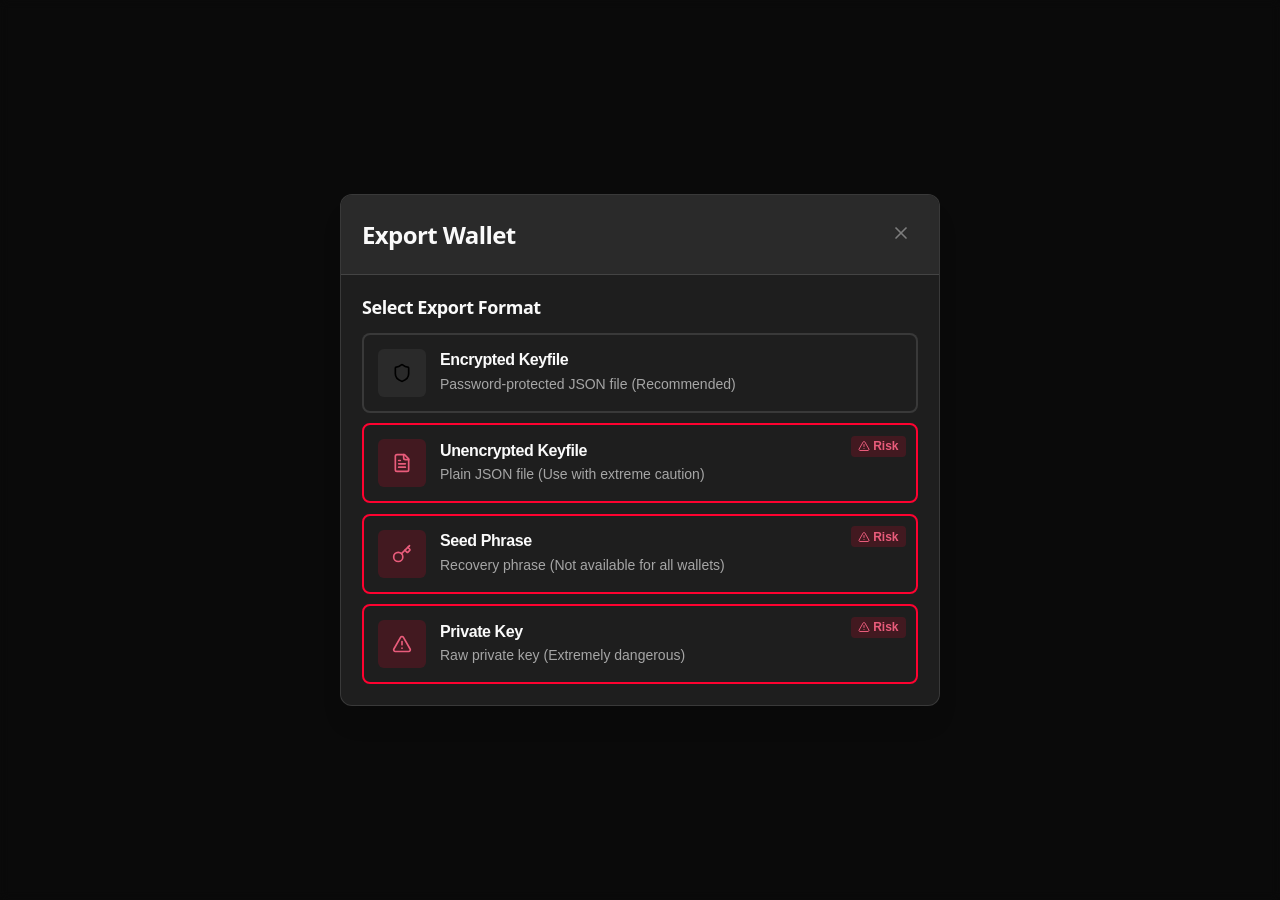
Test: WalletExport reveal-mask (SEC-12) › encrypted keyfile export (deliberately unmasked) › renders the password-protected keyfile directly — no reveal gate
Click the button "Encrypted Keyfile". click: (402, 372)
box: [362,332,918,412]
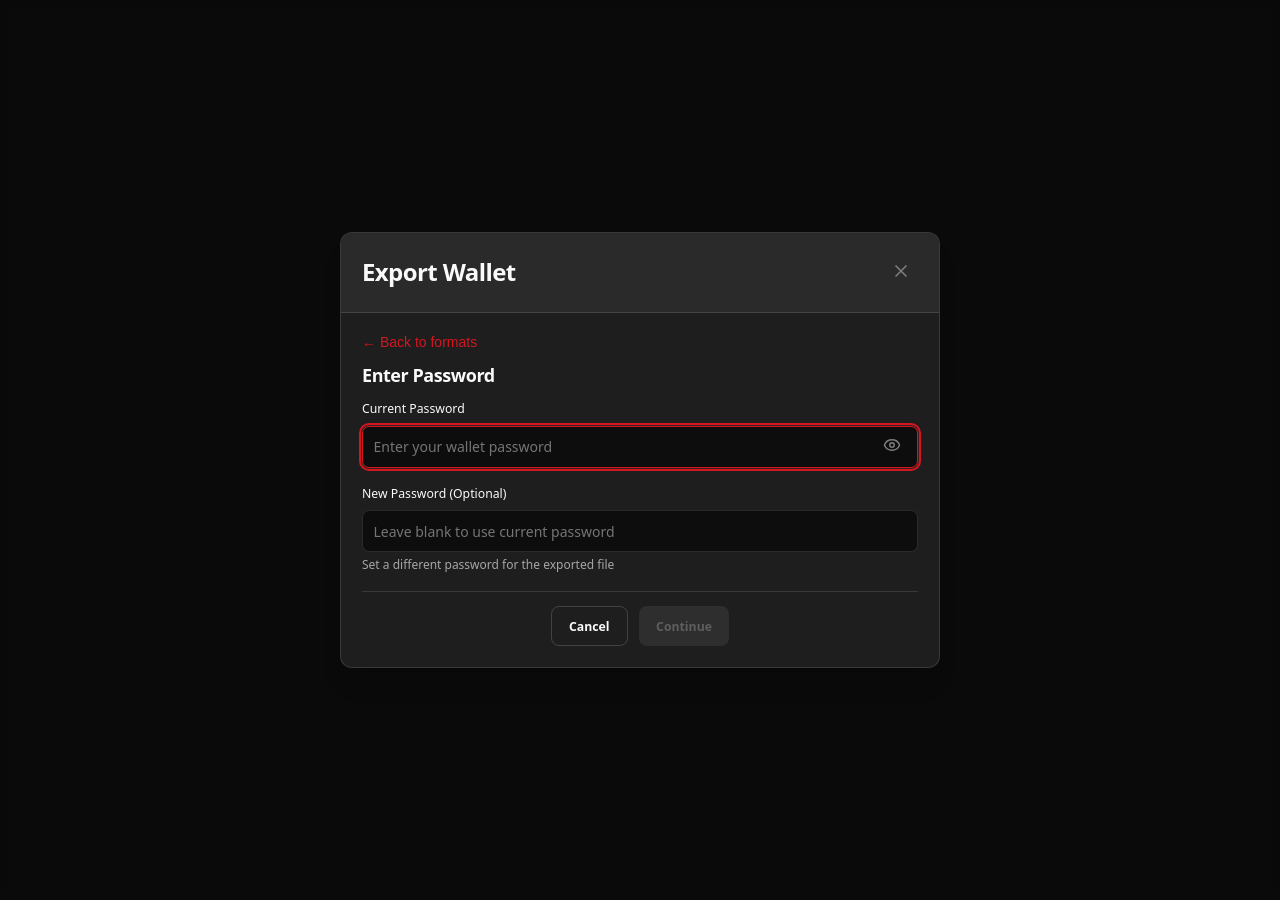
Type "correct-horse-battery" into the password field with placeholder "Enter your wallet password". click: (640, 446)
box: [362,426,918,468]
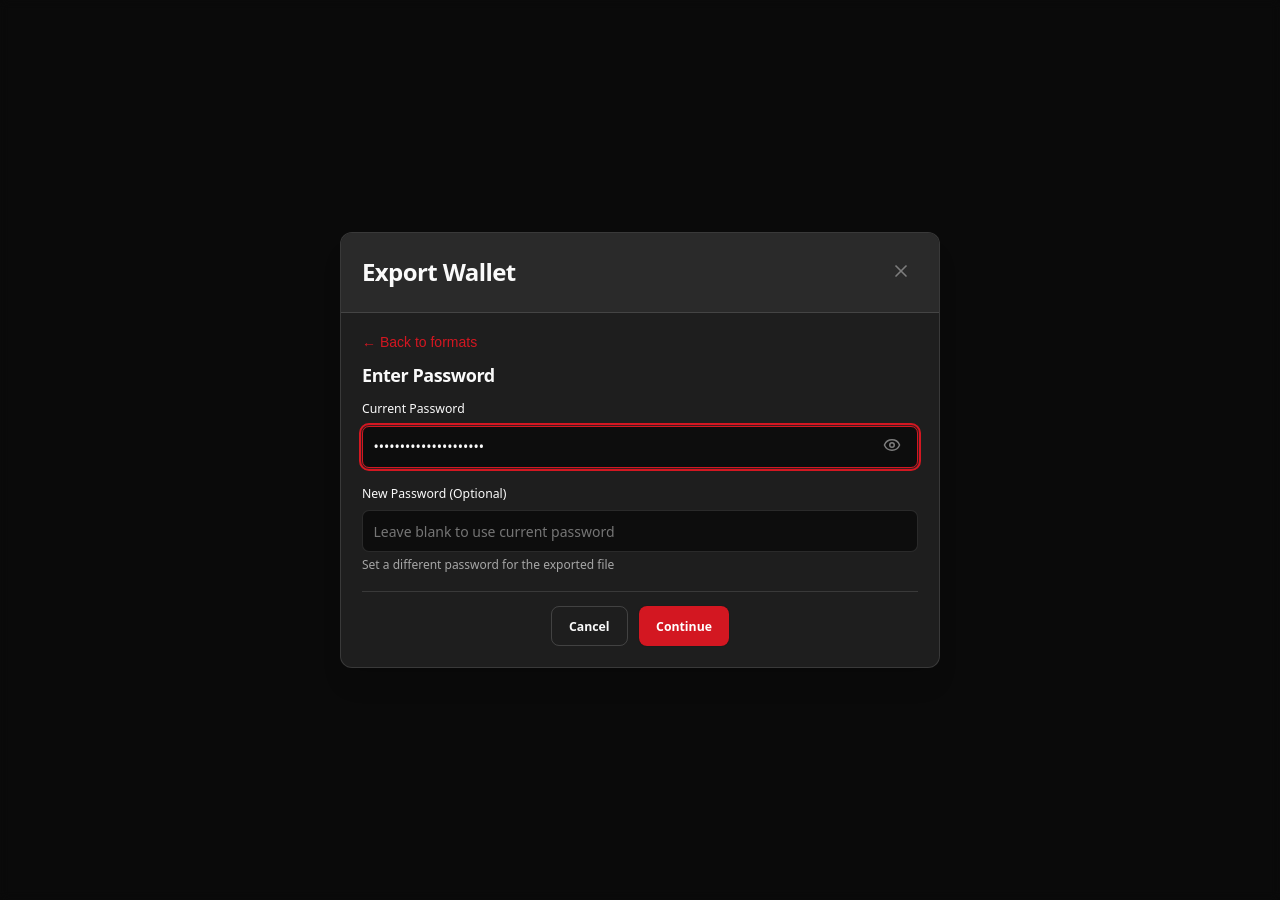
// Encrypted export has no final-warning interstitial
Click the button "Continue". click: (684, 626)
box: [639,606,729,646]
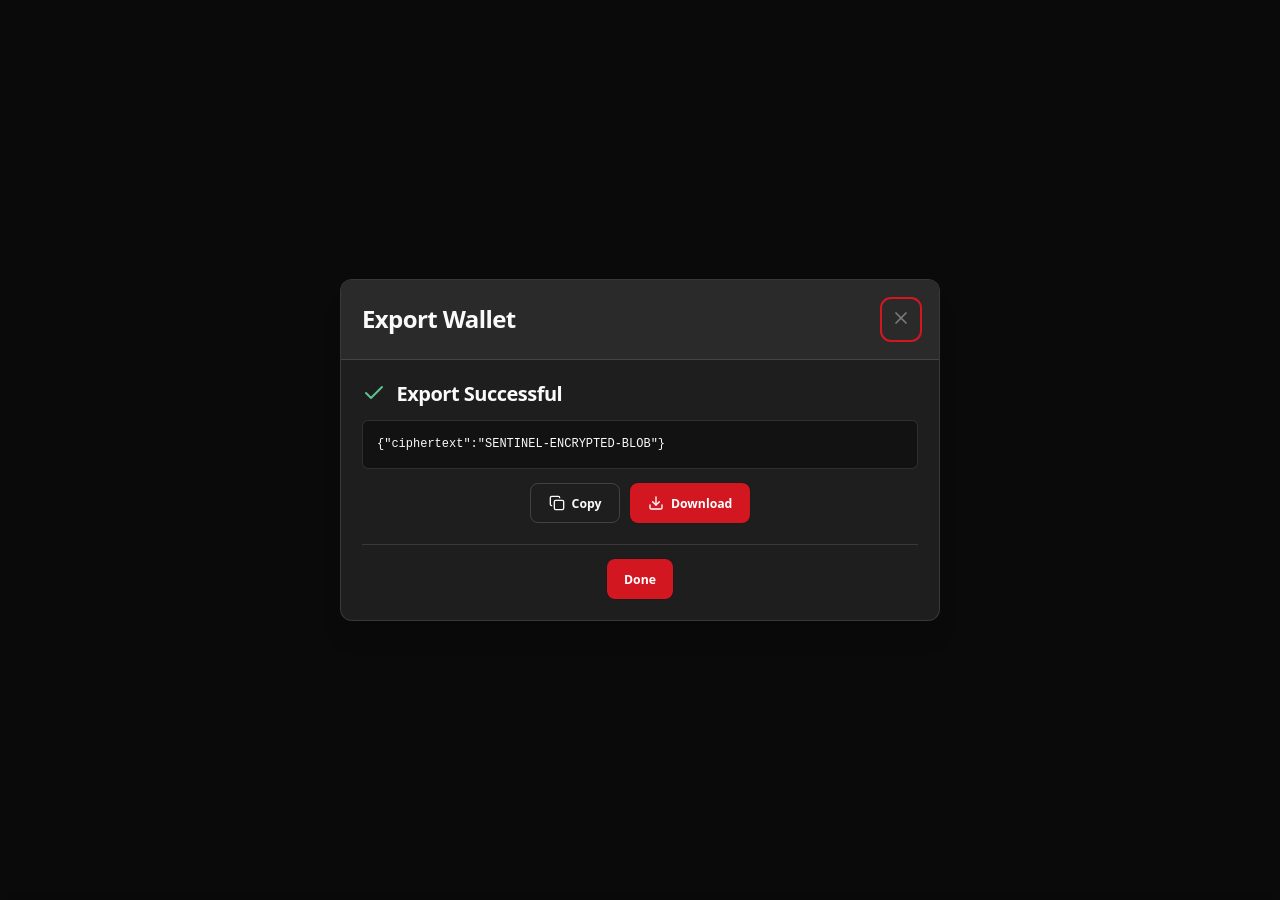
Now the heading "Export Successful" is shown, box [396,381,562,406]
Now the text "SENTINEL-ENCRYPTED-BLOB" is shown, box [377,437,665,451]
